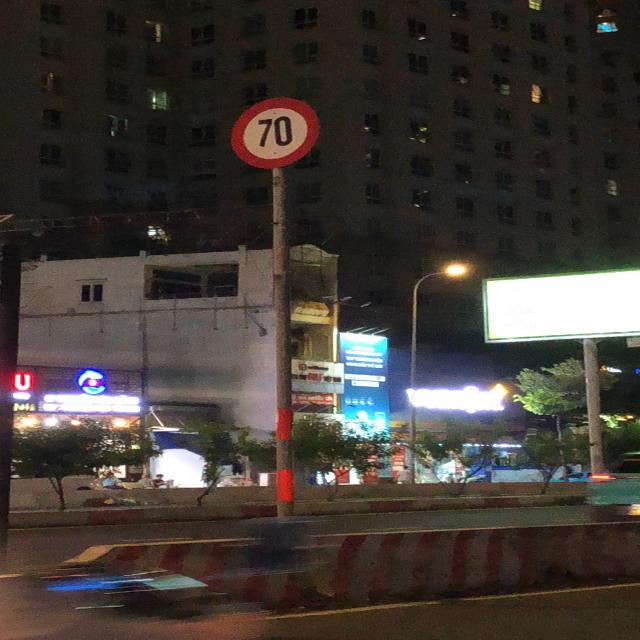Bien bao toc do toi da cho phep: (225, 94, 340, 168)
